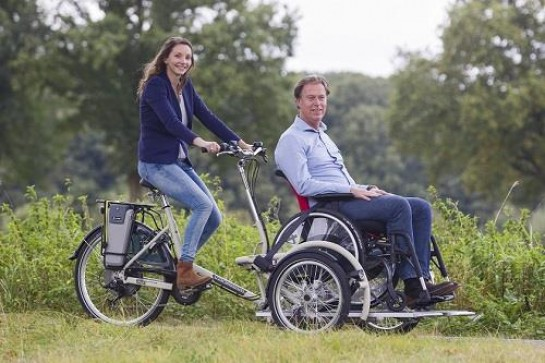person: (263, 73, 406, 227), (133, 38, 230, 214)
wheelchair: (264, 205, 434, 335)
